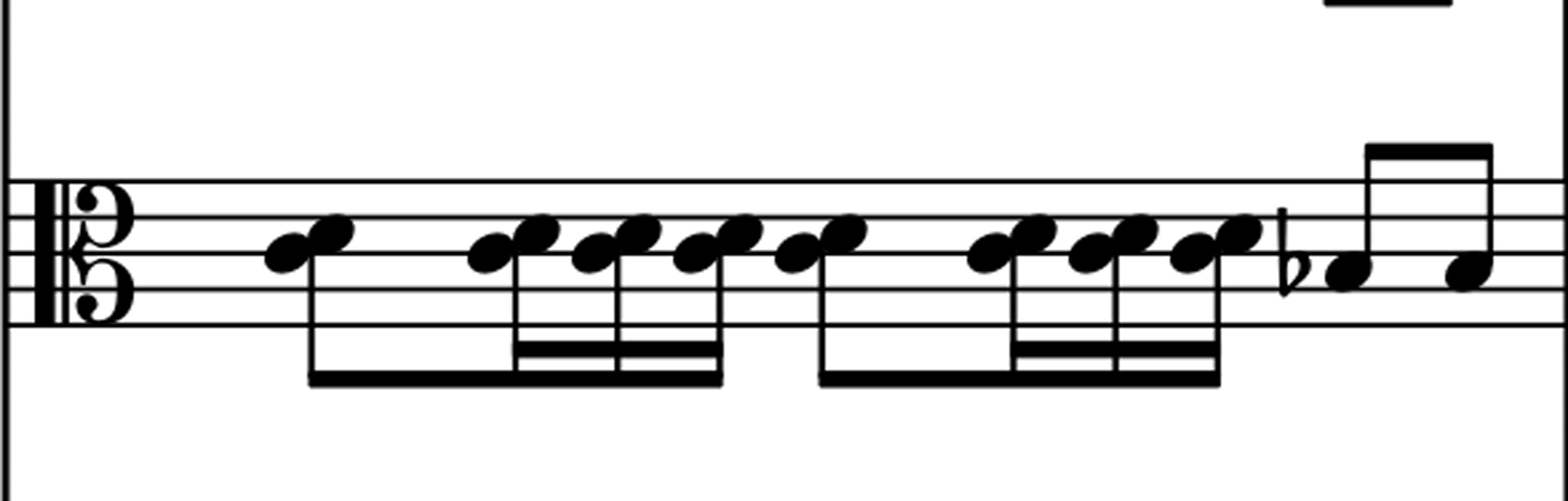accidentalFlat: (1276, 207, 1310, 296)
beam: (818, 370, 1217, 386), (308, 370, 723, 385), (517, 341, 720, 356), (1367, 143, 1490, 158), (1324, 0, 1451, 5)
clefCAlto: (17, 156, 164, 351)
noteheadBlackInSpace: (820, 214, 866, 253), (615, 214, 660, 253), (514, 214, 559, 253), (1112, 214, 1157, 253), (1216, 214, 1261, 253), (1445, 251, 1491, 289), (309, 214, 353, 253), (1011, 214, 1055, 253), (717, 214, 762, 252), (1325, 251, 1369, 289)
noteheadBlackOnLine: (265, 233, 308, 272), (1069, 233, 1112, 272), (775, 233, 818, 271), (673, 233, 716, 271), (967, 233, 1010, 271), (1170, 233, 1213, 271), (468, 233, 510, 271), (572, 233, 614, 271)
staff: (294, 172, 1470, 335), (177, 175, 1352, 295)
